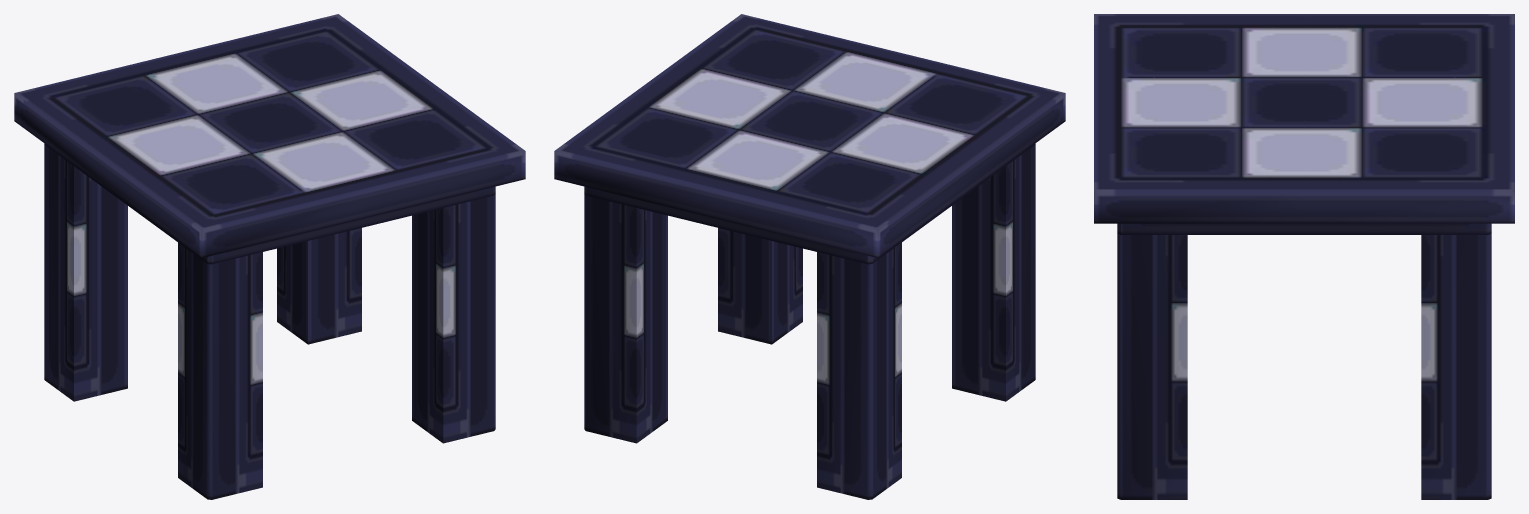
File: rmk_mnc_tableS.dae
The picture shows the model from 3 angles, left to right: view 1: azimuth 30°, elevation 25°; view 2: azimuth 150°, elevation 25°; view 3: azimuth 270°, elevation 25°; orthographic projection. The views are drawn at different scales.
Visible parts, largest first — view 1: rmk_mnc_tableS; view 2: rmk_mnc_tableS; view 3: rmk_mnc_tableS.
Part boxes in pixels (x1=…): rmk_mnc_tableS: x1=14, y1=14, x2=525, y2=499; rmk_mnc_tableS: x1=554, y1=14, x2=1065, y2=499; rmk_mnc_tableS: x1=1094, y1=14, x2=1514, y2=499.
Size of the model in its own units: 28.8 by 24 by 28.8.
1 material, 1 textured.
